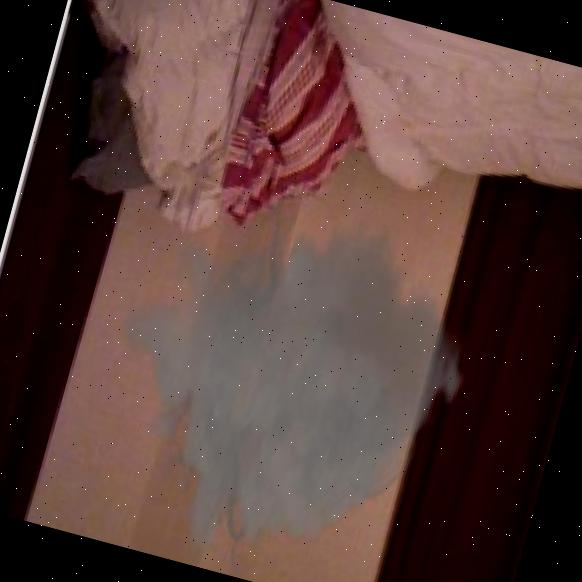smoke: (65, 133, 509, 582)
